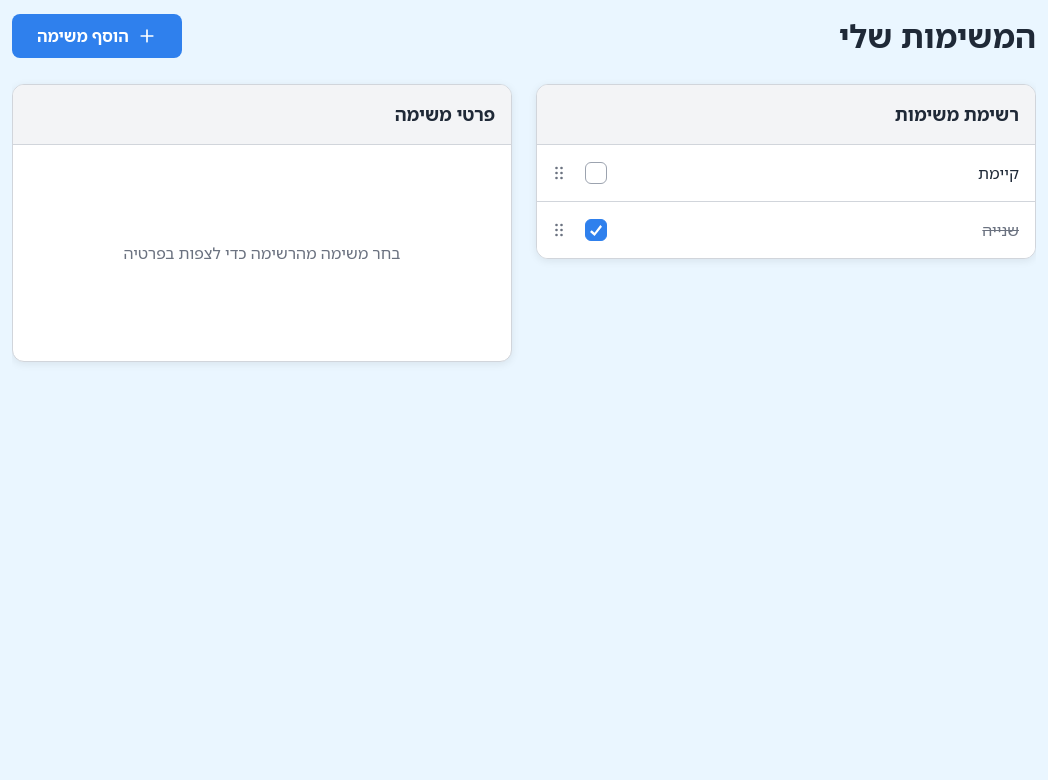
Test: HomePage – edit task details › saves all three fields, updates the list row and keeps completed/position
Click the button "שנייה": (1001,230) [615, 202, 1035, 258]
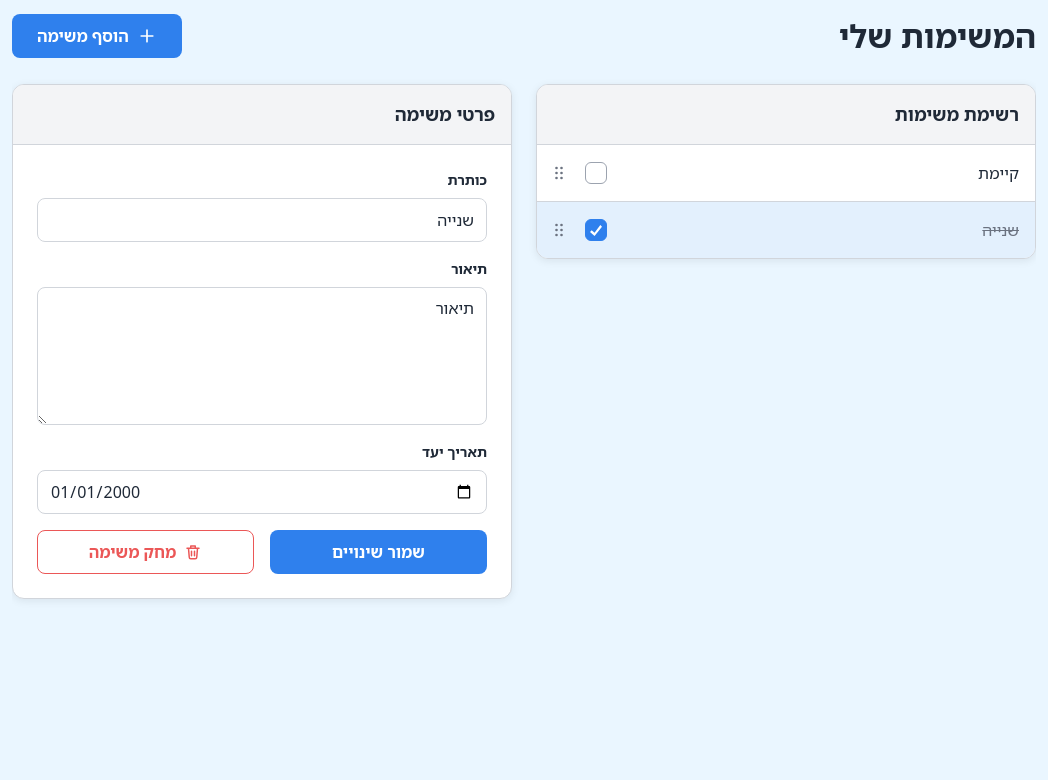
Replace the text in the field labelled "כותרת" with "  כותרת חדשה ": (262,220) [37, 198, 487, 242]
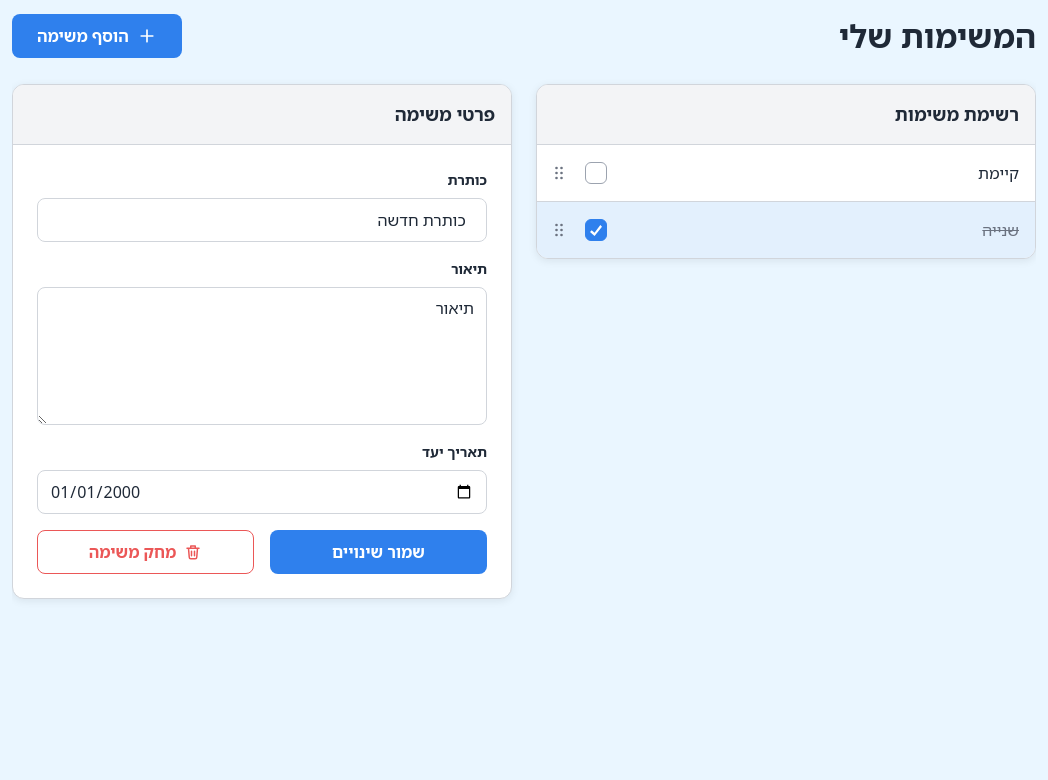
Click the button "שמור שינויים": (378,552) [270, 530, 487, 574]
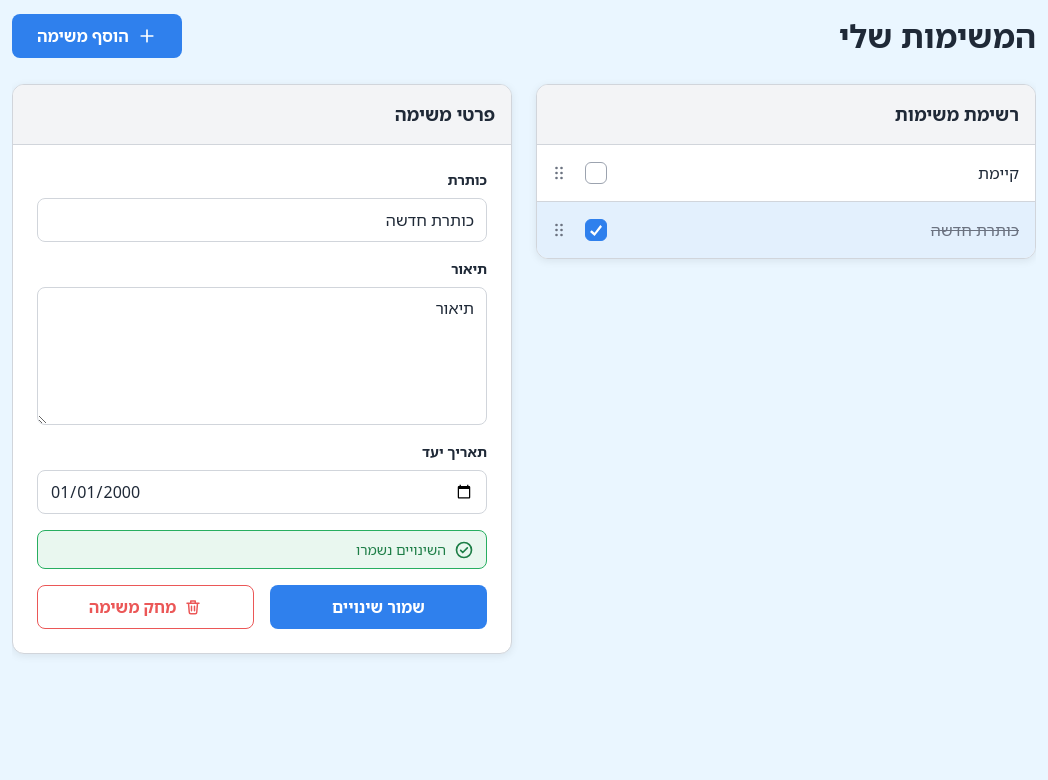
Check: the checkbox named "סימון השלמה: כותרת חדשה" is checked, box [585, 219, 607, 241]
Check: the message reads "השינויים נשמרו", box [356, 540, 446, 559]
Check: the list item "כותרת חדשה" is shown, box [537, 202, 1035, 258]
